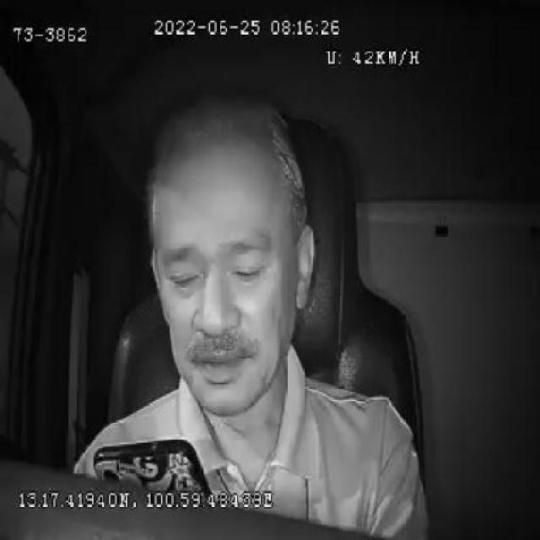phone: (93, 438, 212, 494)
